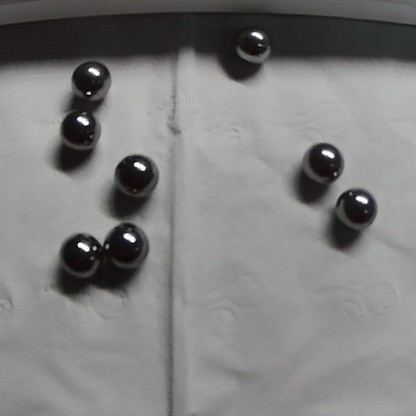ironball: (292, 131, 351, 188), (328, 185, 384, 238), (61, 55, 113, 107), (108, 151, 157, 198), (107, 223, 153, 265), (60, 105, 98, 148), (63, 231, 96, 274), (233, 26, 271, 61)
